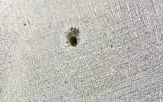Spalling: (66, 26, 81, 48)
